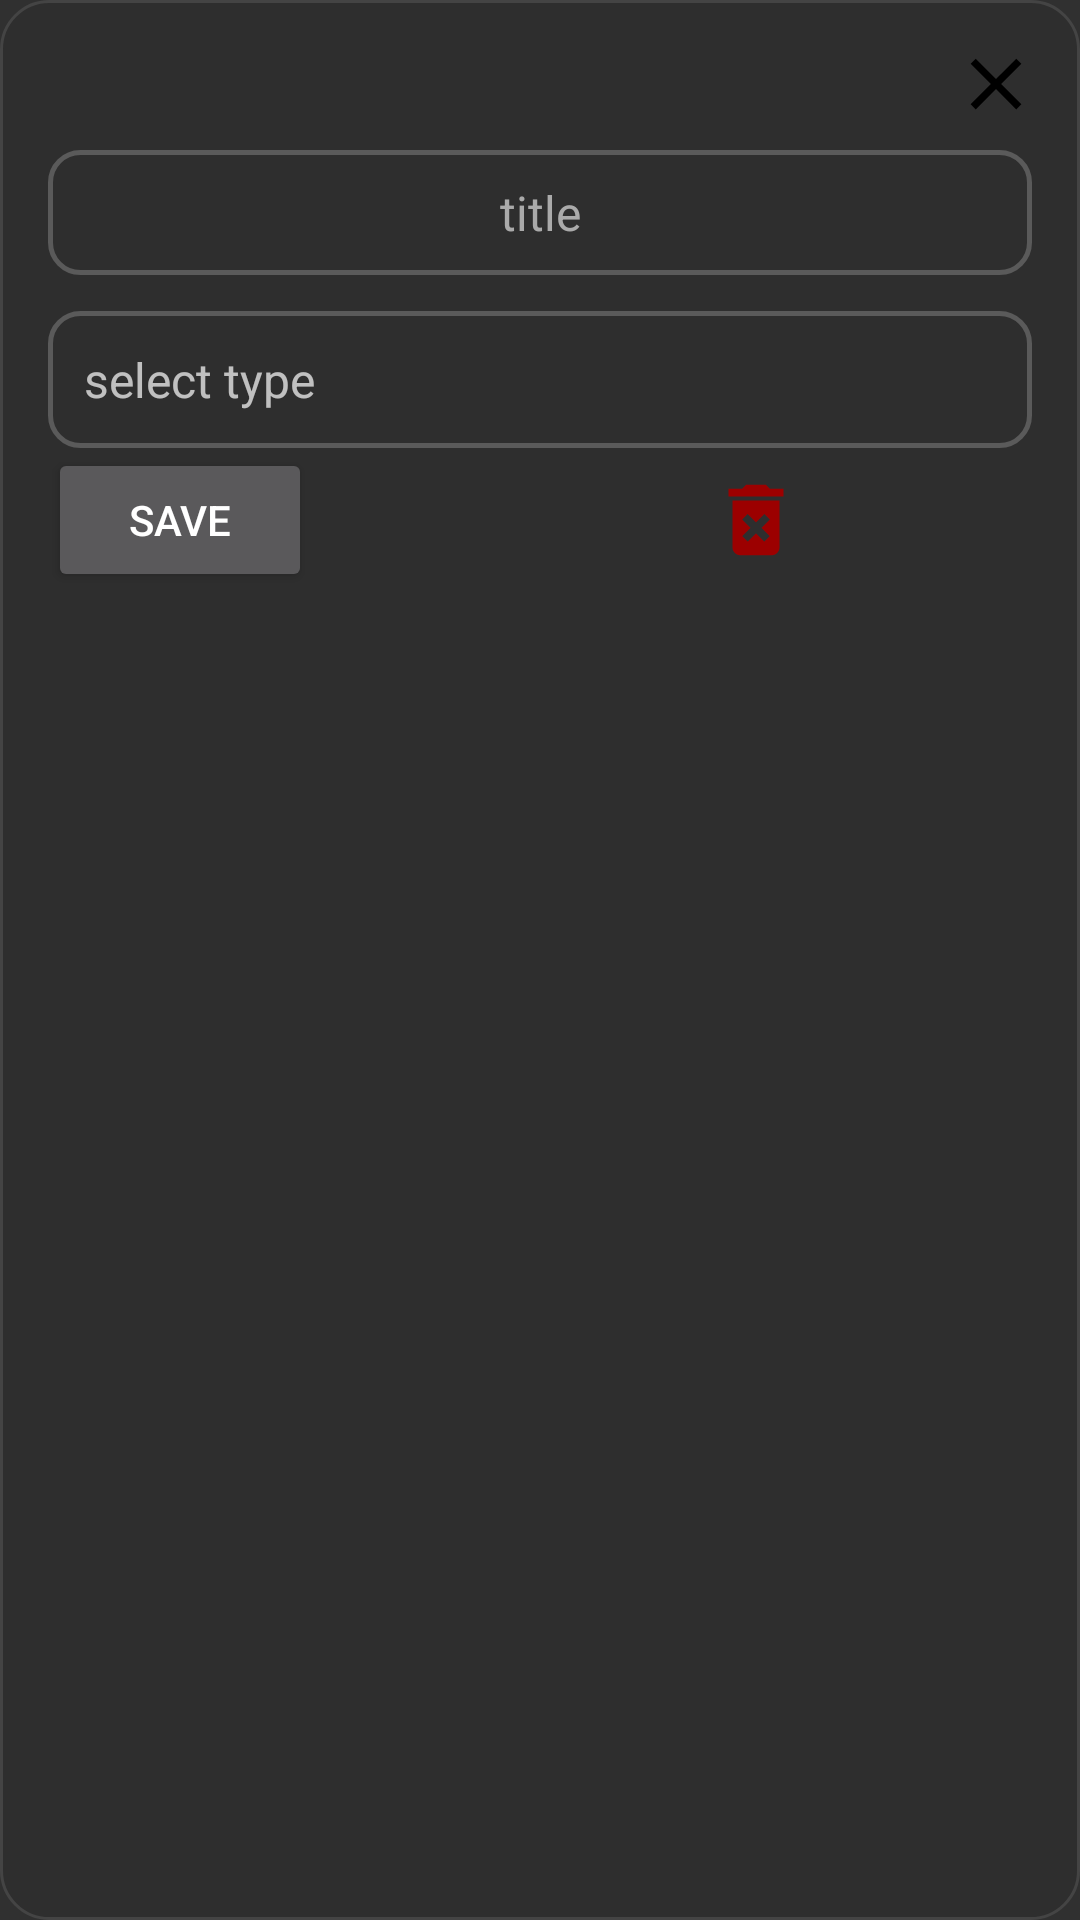

Icons on this 1080x1920 Android screen, each with the point to tap as [x,y]:
close: [996,84]
delete: [756,520]
